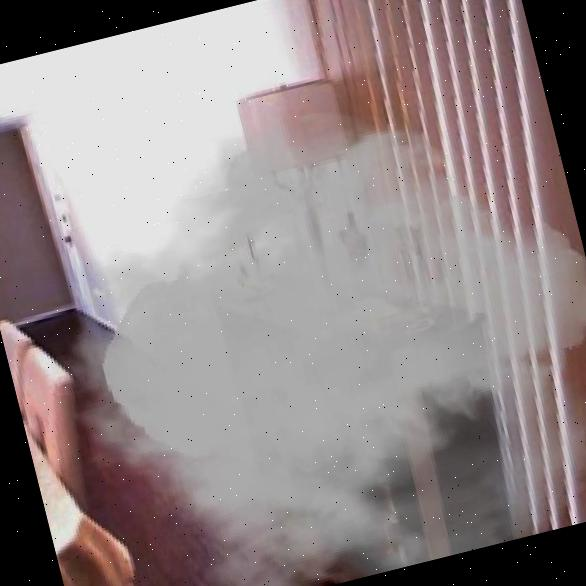smoke: (0, 49, 586, 586)
